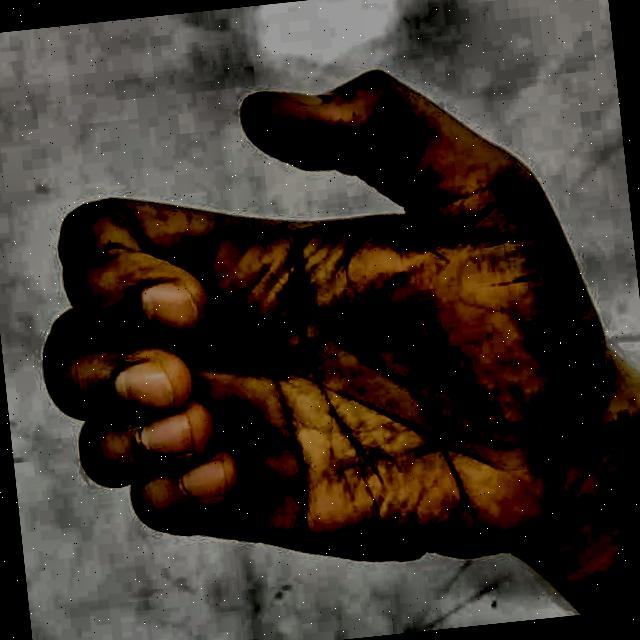Dho: (1, 40, 634, 640)
